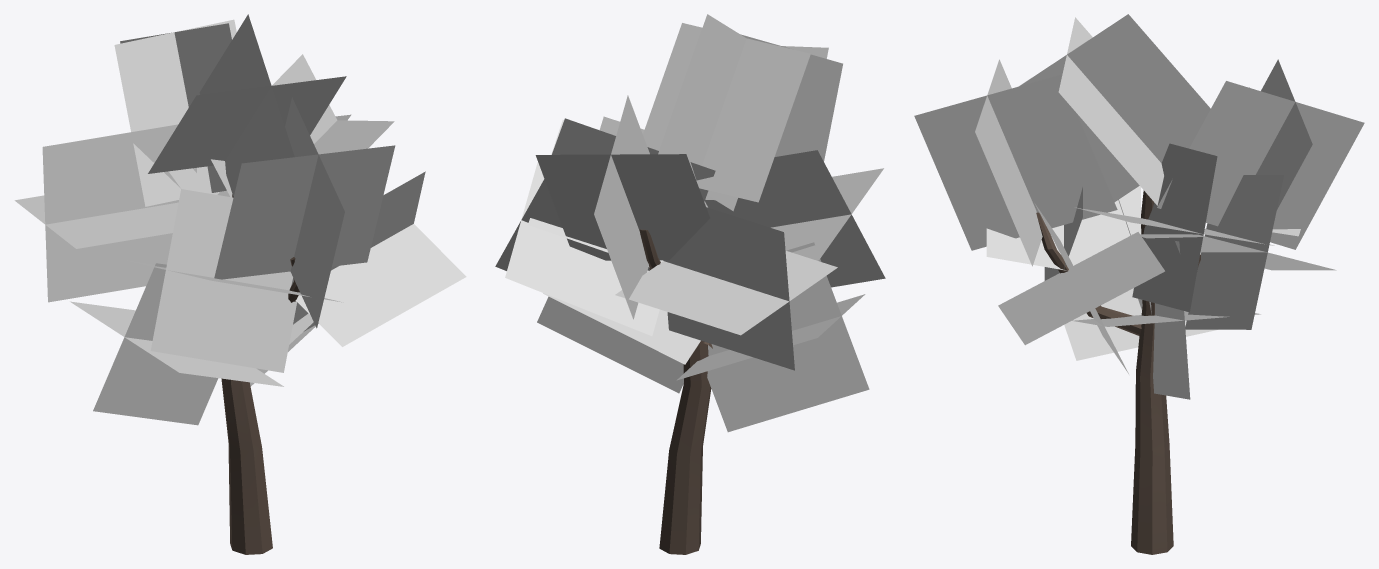
The model's file is Tree7.fbx.
3 renders of one model, left to right at view 1: azimuth 30°, elevation 25°; view 2: azimuth 150°, elevation 25°; view 3: azimuth 270°, elevation 25°, orthographic. The views are drawn at different scales.
Parts seen in each view (by area): view 1: Plane.018; view 2: Plane.018; view 3: Plane.018.
Part boxes in pixels (x1,y1,x2,y2): Plane.018: (14, 14, 466, 554); Plane.018: (495, 14, 885, 554); Plane.018: (914, 14, 1364, 554).
Bounding box in the file's own units: 985 × 1572 × 1224.
